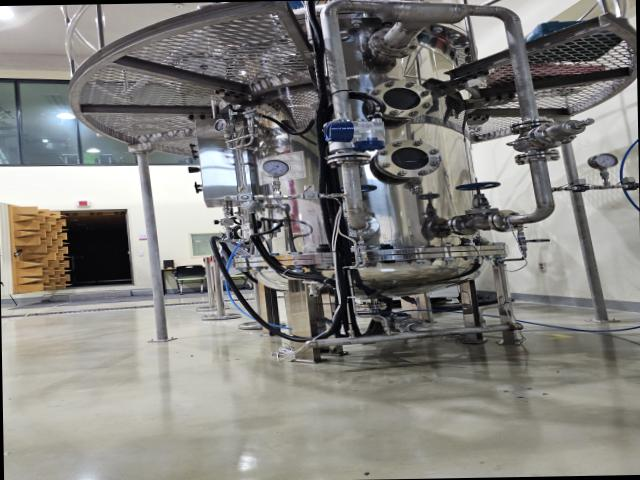Flange: (365, 78, 435, 122), (372, 138, 442, 180)
Flush Ring: (370, 27, 420, 59), (334, 213, 382, 239), (487, 209, 524, 235), (514, 148, 560, 166), (326, 150, 372, 168), (510, 118, 556, 135), (447, 214, 480, 236), (394, 316, 430, 336)
GasRegulator: (214, 108, 284, 155)
Nuts: (232, 192, 261, 202), (297, 191, 326, 200), (567, 183, 596, 192), (617, 182, 639, 191)
Piston Valve: (456, 180, 502, 215), (339, 183, 378, 216)
Pressure Gage: (260, 158, 292, 196), (587, 152, 621, 187)
